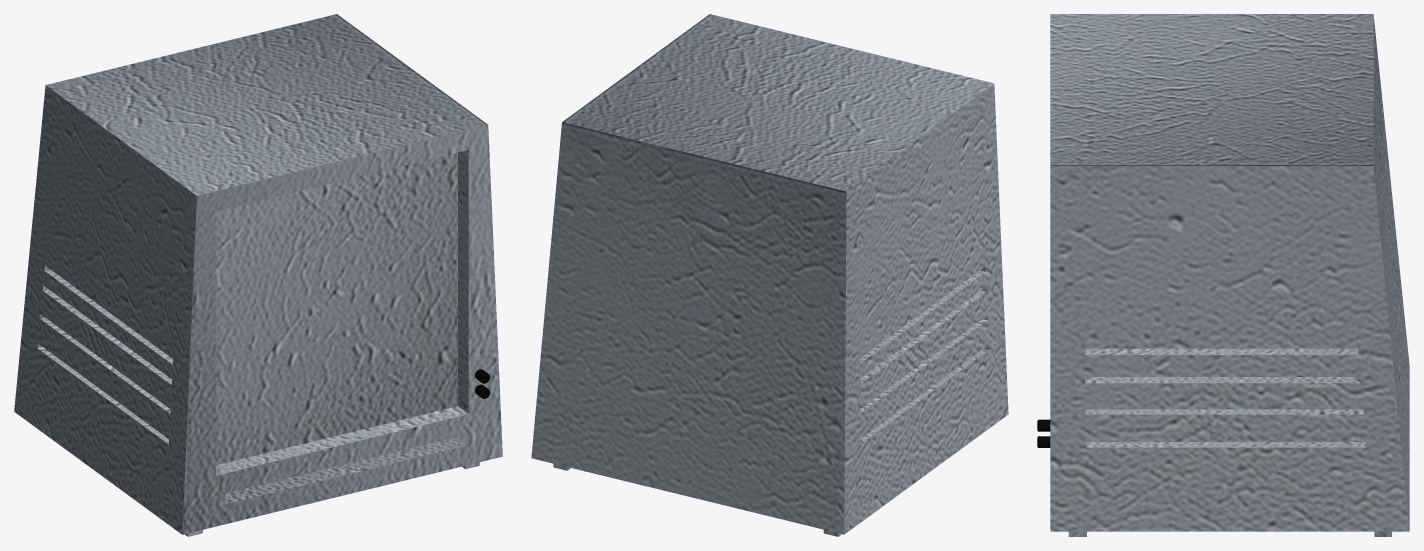
File: messageterminal.glb
3 views of the same model, side by side, from view 1: azimuth 30°, elevation 25°; view 2: azimuth 150°, elevation 25°; view 3: azimuth 270°, elevation 25° (orthographic). The views are drawn at different scales.
Parts seen in each view (by area): view 1: Cube; view 2: Cube; view 3: Cube.
Boxes of the visible parts, box(x1,y1,x2,y2) form: Cube: box(14, 14, 502, 536); Cube: box(531, 14, 1008, 536); Cube: box(1050, 14, 1409, 536).
Size of the model in its own units: 2.2 by 2.28 by 2.07.
2 materials, 2 textured.
